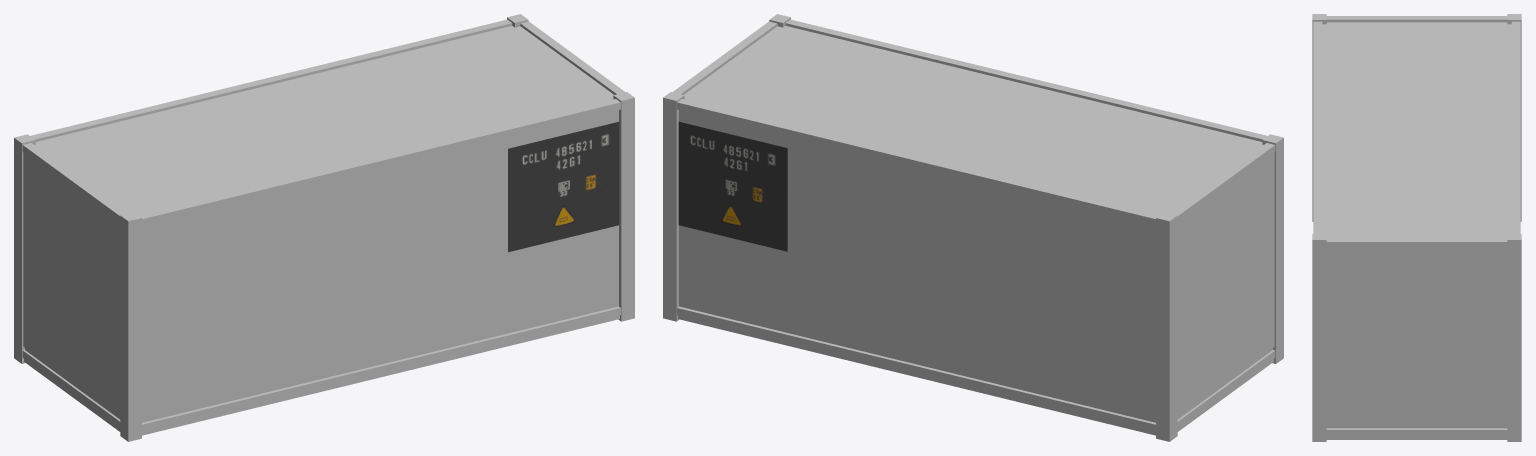
File: container.fbx
3 renders of one model, left to right at view 1: azimuth 30°, elevation 25°; view 2: azimuth 150°, elevation 25°; view 3: azimuth 270°, elevation 25°, orthographic. The views are drawn at different scales.
Visible parts, largest first — view 1: craneBarge_container_01, craneBarge_container_02; view 2: craneBarge_container_01, craneBarge_container_02; view 3: craneBarge_container_01, craneBarge_container_02.
Part boxes in pixels (x1,y1,x2,y2): craneBarge_container_01: (14, 15, 634, 441); craneBarge_container_02: (14, 14, 634, 434); craneBarge_container_01: (663, 18, 1275, 441); craneBarge_container_02: (663, 14, 1283, 441); craneBarge_container_01: (1312, 14, 1521, 441); craneBarge_container_02: (1312, 14, 1521, 441).
Size of the model in its own units: 750 by 312 by 293.
